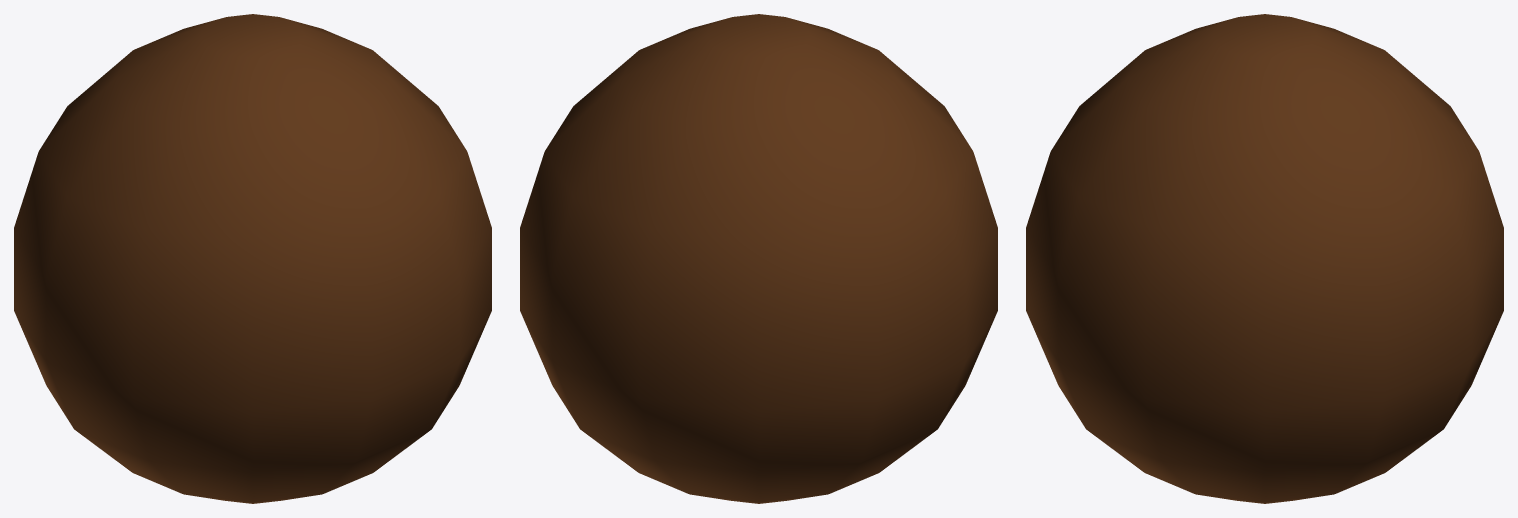
Rendered from chocalate.fbx.
The picture shows the model from 3 angles, left to right: view 1: azimuth 30°, elevation 25°; view 2: azimuth 150°, elevation 25°; view 3: azimuth 270°, elevation 25°; orthographic projection.
Visible parts, largest first — view 1: chocalate; view 2: chocalate; view 3: chocalate.
Boxes of the visible parts, <box> form: chocalate: <box>14,14,491,503</box>; chocalate: <box>520,14,997,503</box>; chocalate: <box>1026,14,1503,503</box>.
Bounding box in the file's own units: 62.63 × 64.23 × 62.63.
